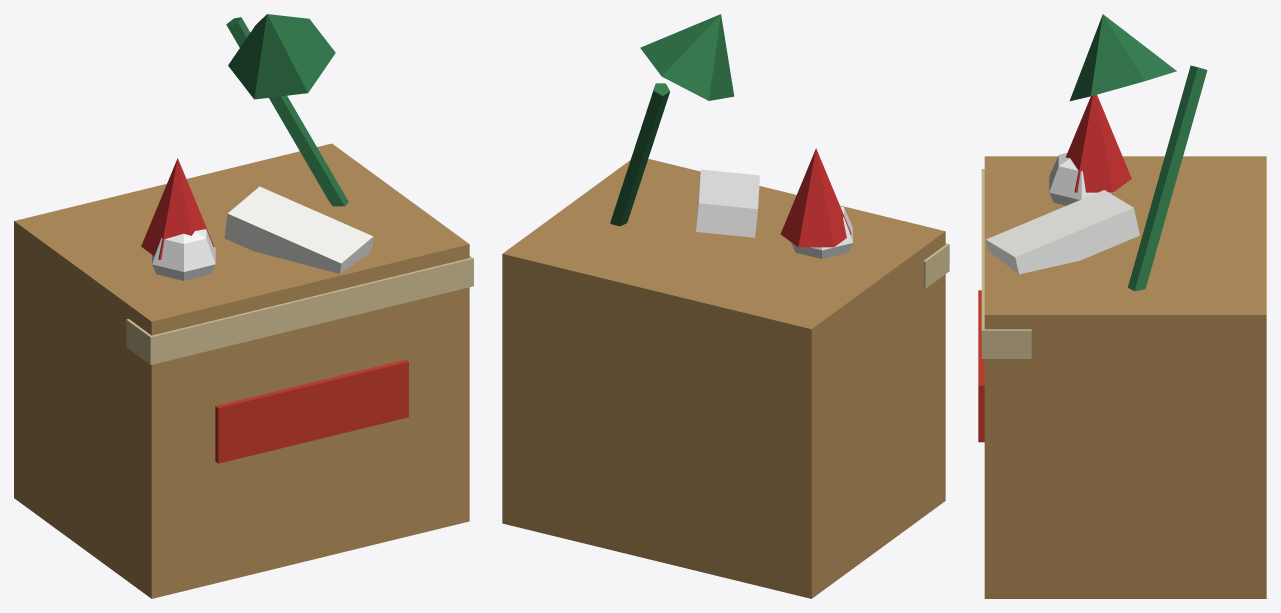
The model's file is lost_box.glb.
The picture shows the model from 3 angles, left to right: view 1: azimuth 30°, elevation 25°; view 2: azimuth 150°, elevation 25°; view 3: azimuth 270°, elevation 25°; orthographic projection. The views are drawn at different scales.
Parts seen in each view (by area): view 1: box_cardboard, box_label_red, box_tape, things_umbrella_green, things_slipper, things_gnome_red, things_white; view 2: box_cardboard, things_umbrella_green, things_slipper, things_gnome_red, things_white, box_tape; view 3: box_cardboard, things_umbrella_green, things_slipper, things_gnome_red, box_tape, things_white, box_label_red.
Part boxes in pixels (x1,y1,x2,y2): box_cardboard: (14,143,469,598); box_label_red: (215,359,408,463); box_tape: (126,256,473,364); things_umbrella_green: (226,14,348,206); things_slipper: (224,186,373,273); things_gnome_red: (141,158,214,259); things_white: (152,229,215,280); box_cardboard: (502,159,945,598); things_umbrella_green: (610,14,734,226); things_slipper: (696,169,759,237); things_gnome_red: (780,148,851,247); things_white: (791,206,852,258); box_tape: (923,243,949,288); box_cardboard: (984,156,1266,598); things_umbrella_green: (1069,14,1207,291); things_slipper: (986,190,1139,274); things_gnome_red: (1065,94,1131,192); box_tape: (981,169,1031,358); things_white: (1049,152,1114,205); box_label_red: (978,290,984,442).
Size of the model in its own units: 0.61 by 0.9028 by 0.46.
